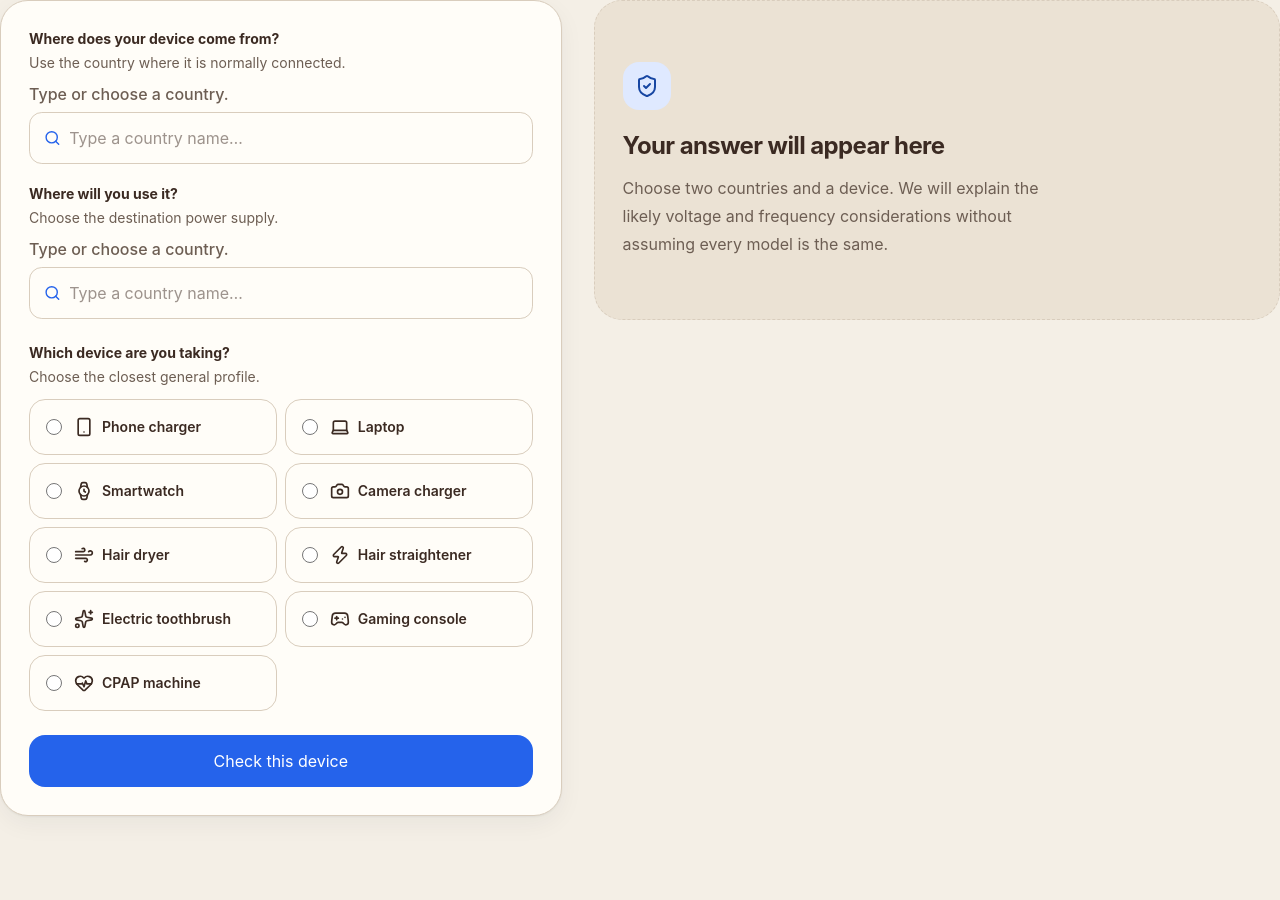
it: device checker › prevents a same-country request and explains how to recover
Type "Japan" into the dropdown with placeholder "Type a country name…" below "Where does your device come from?" at (296, 138), box [69, 126, 523, 150]
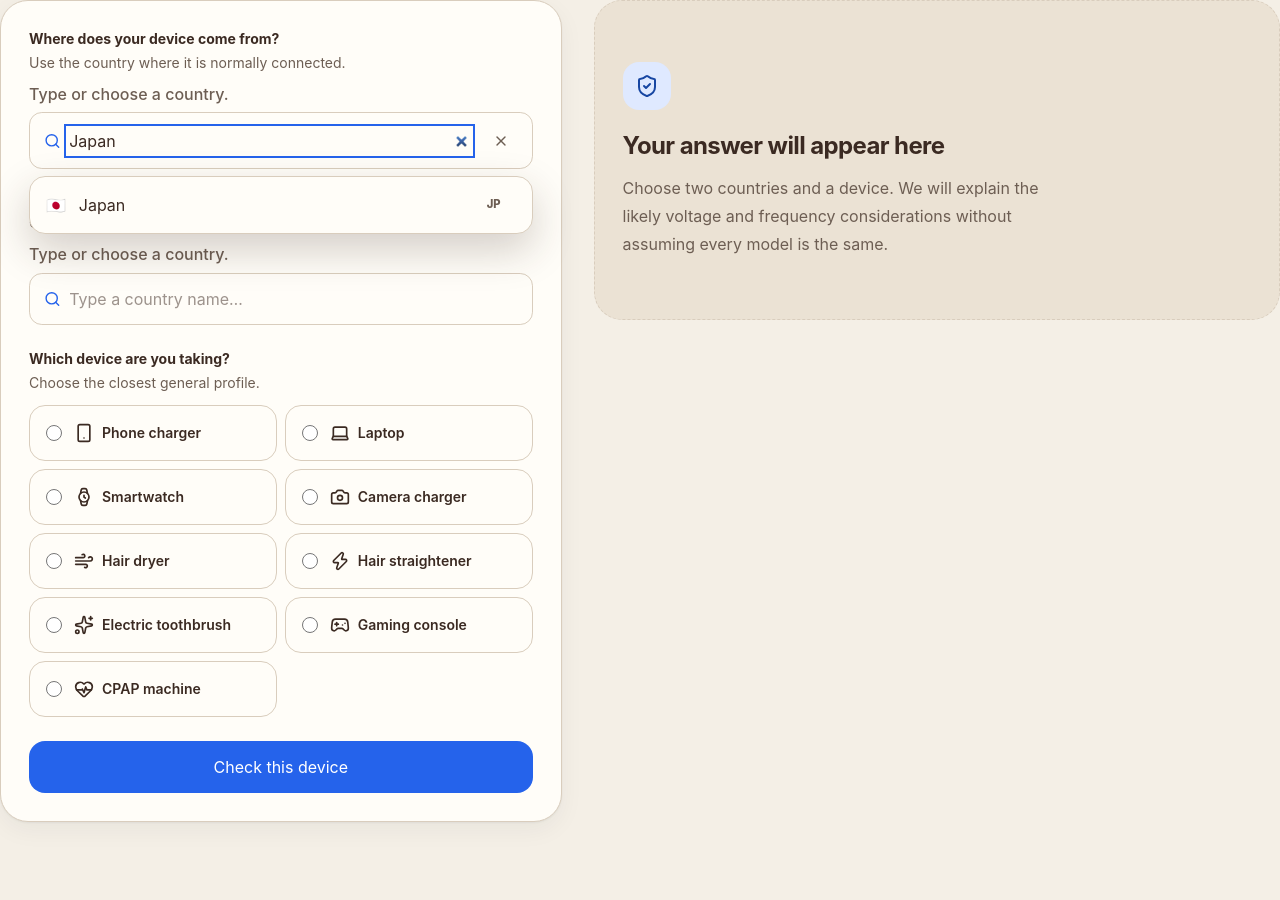
Click the option "🇯🇵 Japan JP" at (102, 205), box [36, 182, 511, 227]
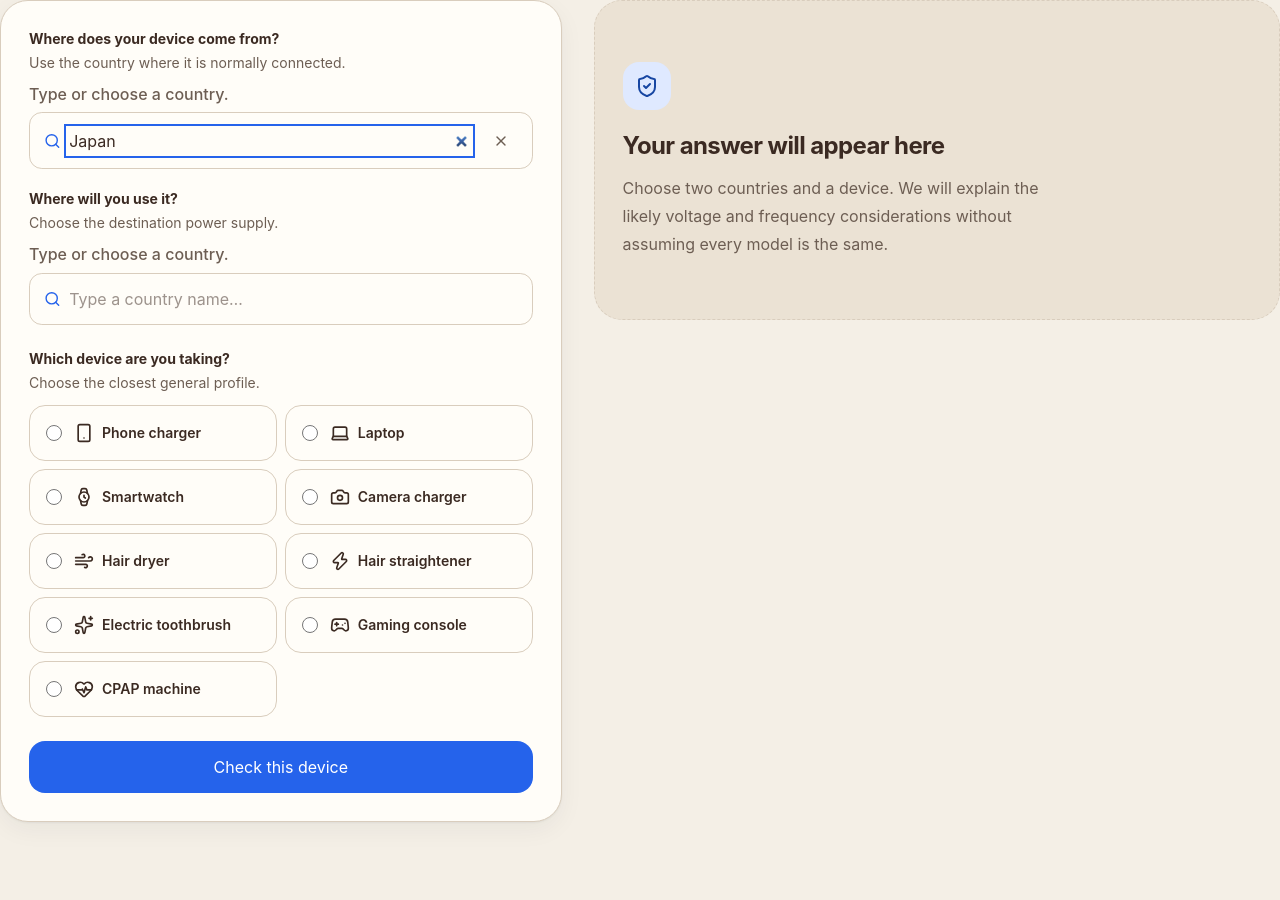
Type "Japan" into the dropdown with placeholder "Type a country name…" at (296, 299), box [69, 287, 523, 311]
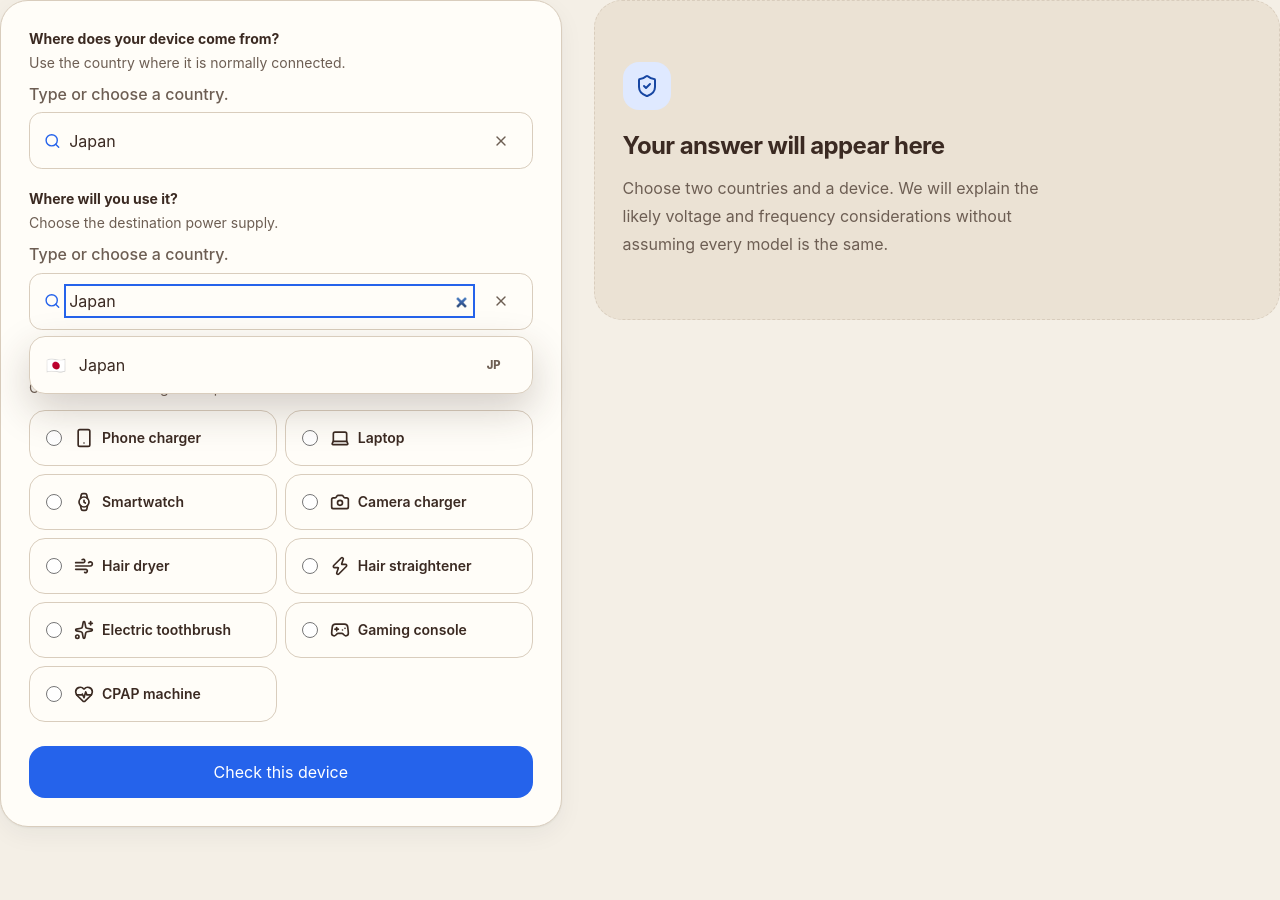
Click the option "🇯🇵 Japan JP" at (102, 365), box [36, 343, 511, 388]
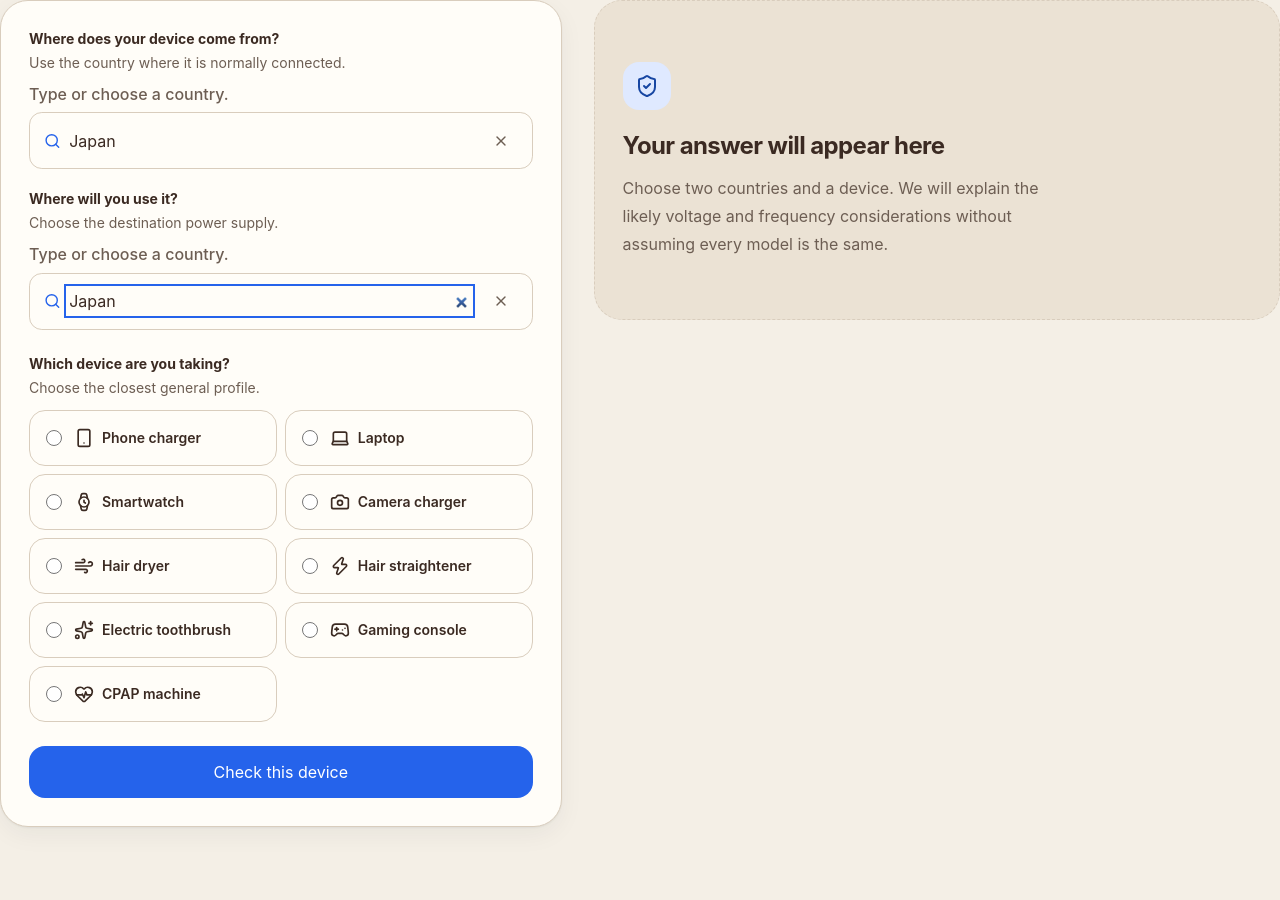
Click the radio button labelled "Phone charger" at (54, 438), box [46, 430, 62, 446]
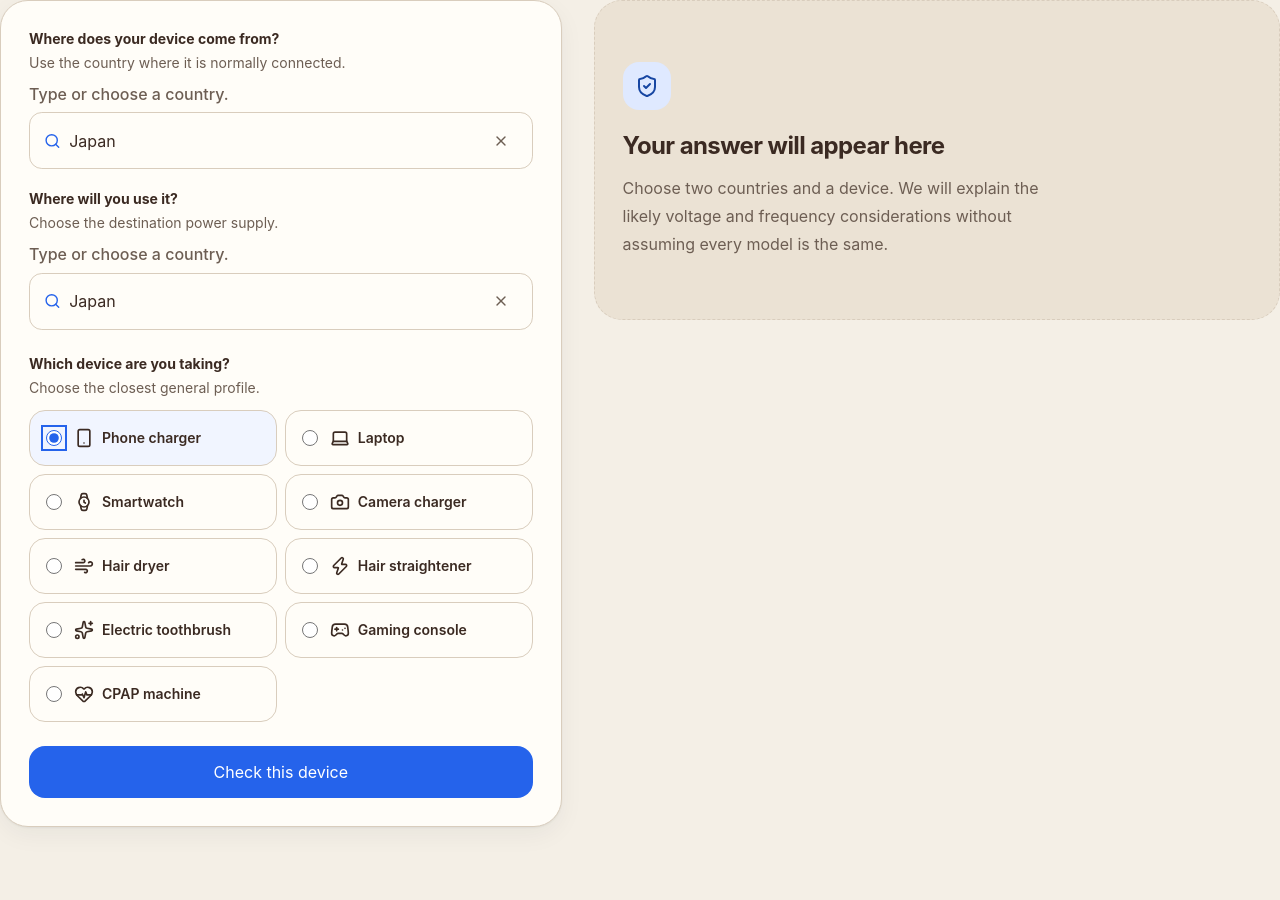
Click the button "Check this device" at (281, 772), box [29, 746, 533, 798]
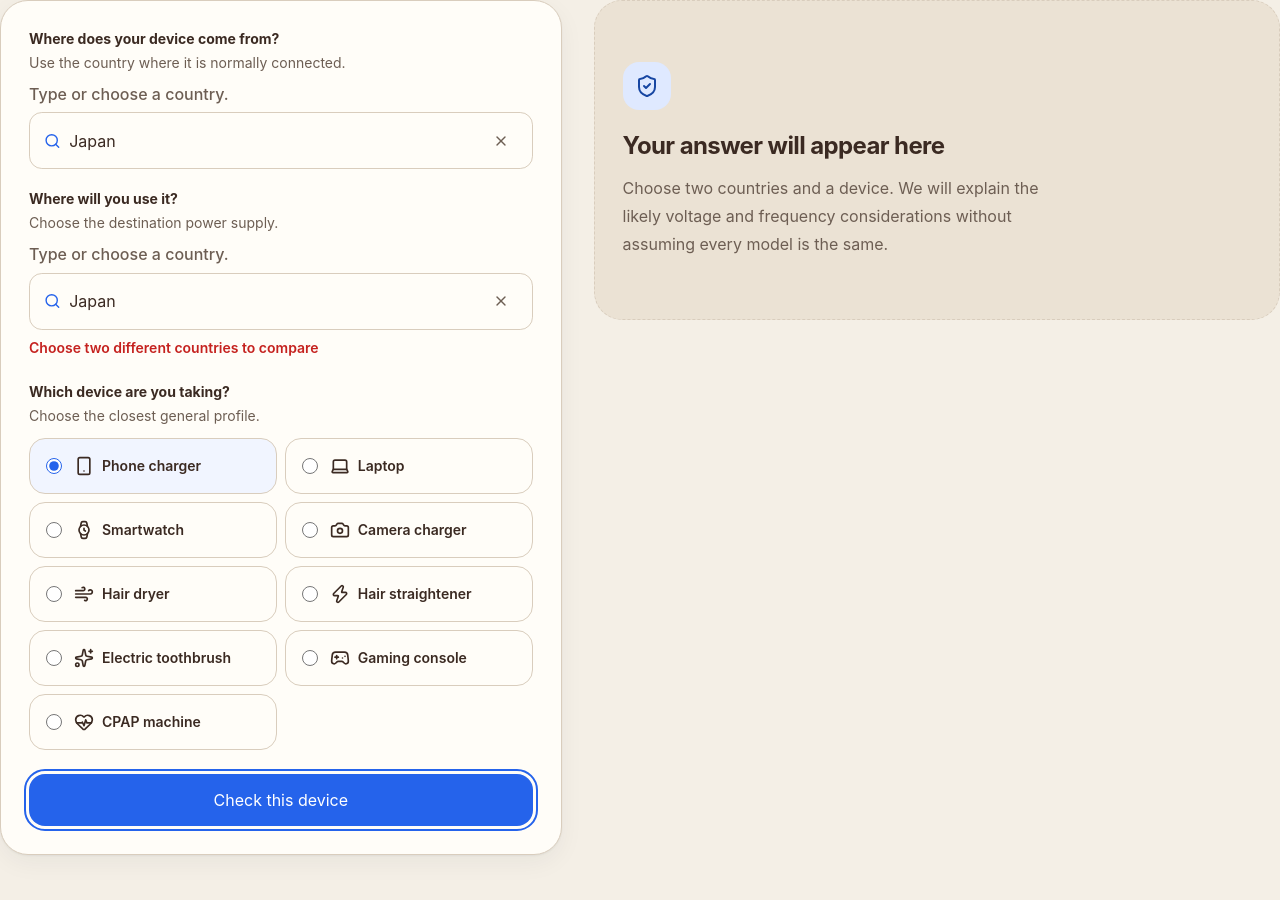
Result: the text "Choose two different countries to compare" is shown at [29, 339, 319, 356]
